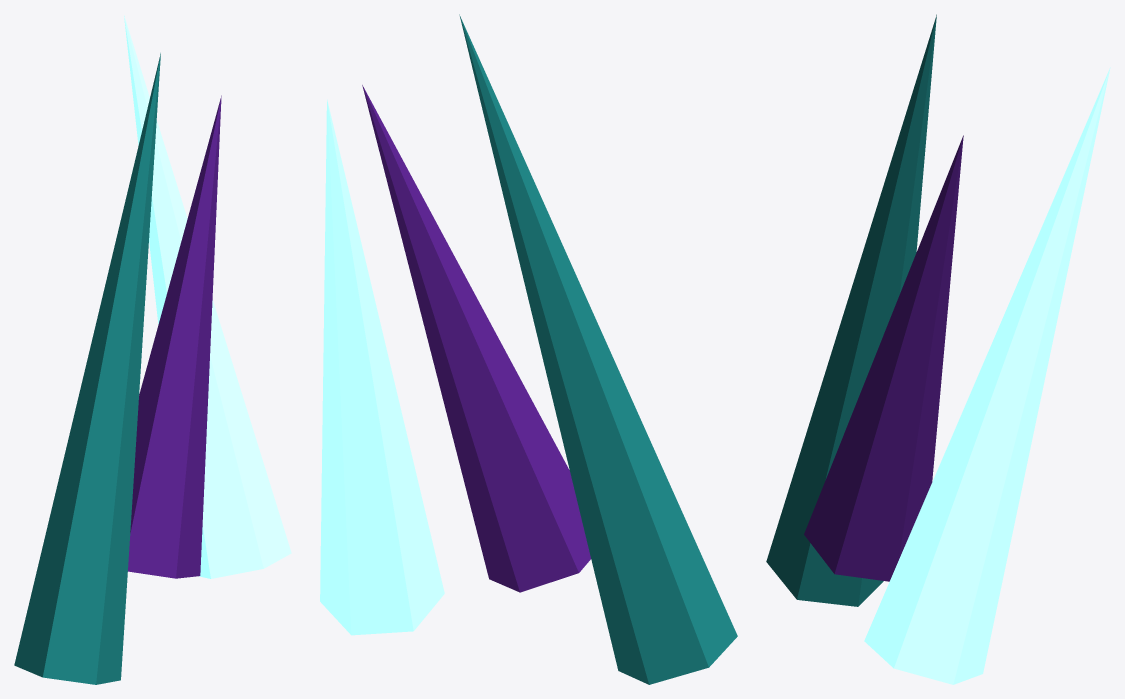
Rendered from Prop_OR_Crystal_20.glb.
The picture shows the model from 3 angles, left to right: view 1: azimuth 30°, elevation 25°; view 2: azimuth 150°, elevation 25°; view 3: azimuth 270°, elevation 25°; orthographic projection. The views are drawn at different scales.
Visible parts, largest first — view 1: Prop_OR_Crystal_20; view 2: Prop_OR_Crystal_20; view 3: Prop_OR_Crystal_20.
Part boxes in pixels (<box>): Prop_OR_Crystal_20: <box>14,15,291,684</box>; Prop_OR_Crystal_20: <box>320,14,737,684</box>; Prop_OR_Crystal_20: <box>766,14,1110,684</box>.
Size of the model in its own units: 0.786 by 1.45 by 0.6943.
